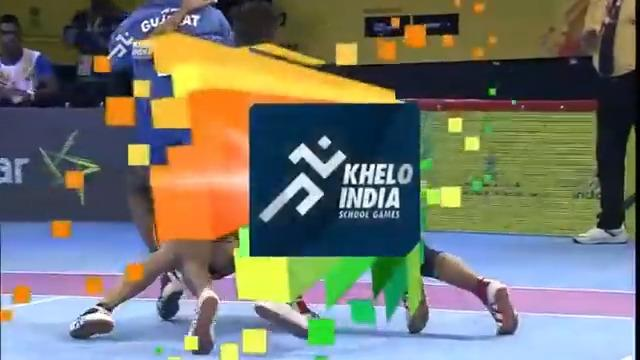Player: (68, 1, 519, 352), (104, 0, 237, 320), (0, 13, 59, 106)
referee: (570, 0, 638, 245)
